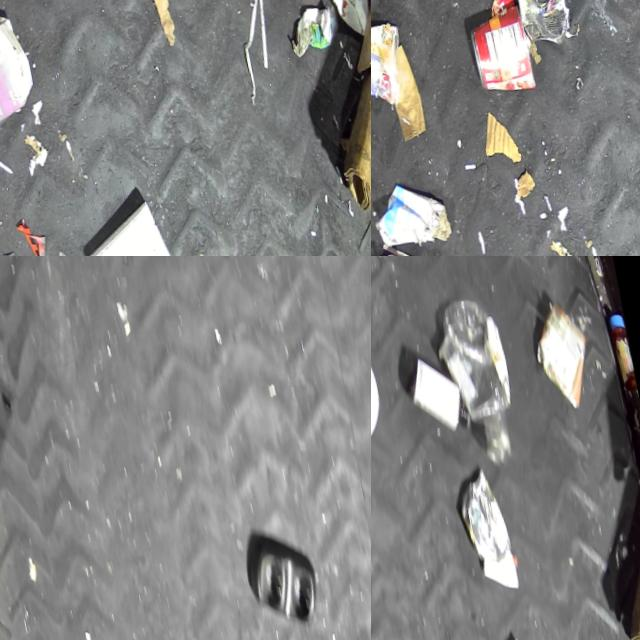can: (526, 292, 599, 411), (464, 1, 537, 98), (452, 459, 515, 564), (371, 16, 412, 112), (509, 0, 576, 50), (323, 0, 371, 36)
non_white_jug: (0, 2, 43, 164)
plastic_bottle: (426, 283, 527, 472)
